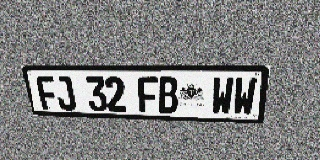2: (104, 76, 126, 112)
3: (85, 76, 108, 111)
B: (158, 77, 178, 114)
F: (35, 76, 59, 110), (137, 77, 158, 113)
J: (53, 76, 77, 111)
W: (232, 77, 257, 116), (211, 77, 234, 115)
